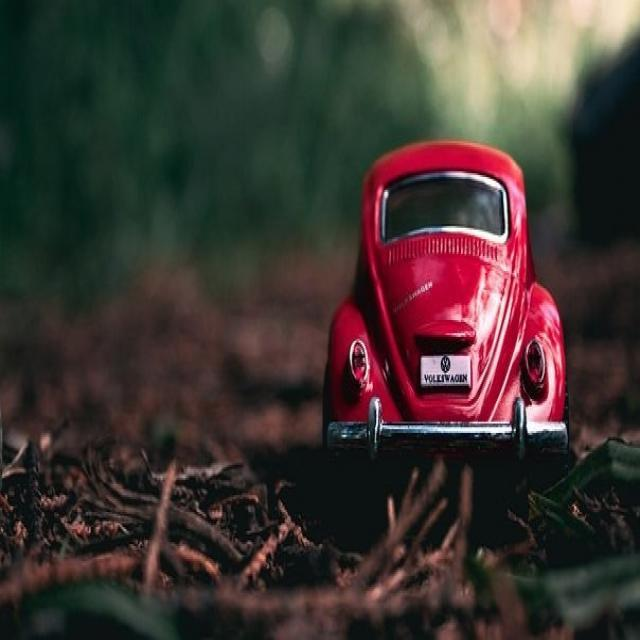cars: (321, 139, 574, 491)
